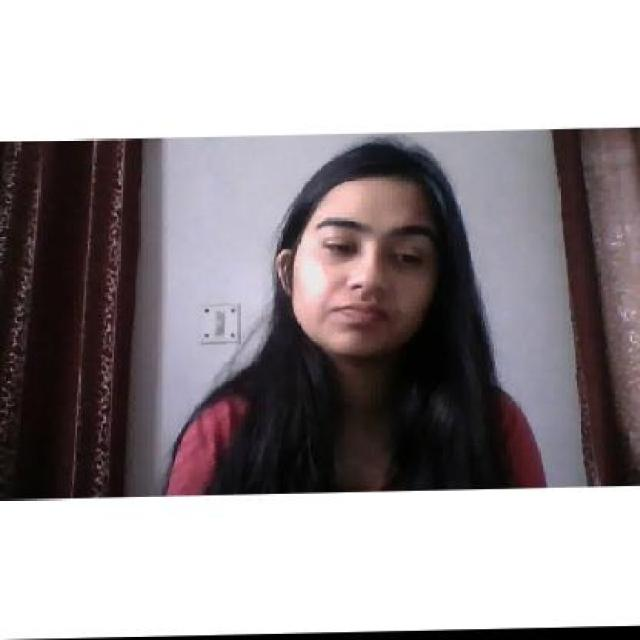attentif: (278, 143, 444, 362)
